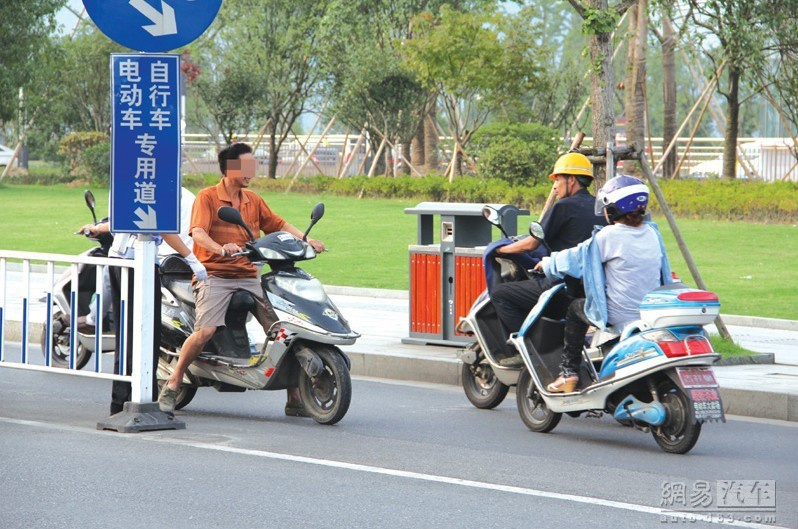non-vehicle: (149, 229, 359, 431), (524, 265, 720, 457), (460, 197, 522, 420), (44, 205, 125, 368)
